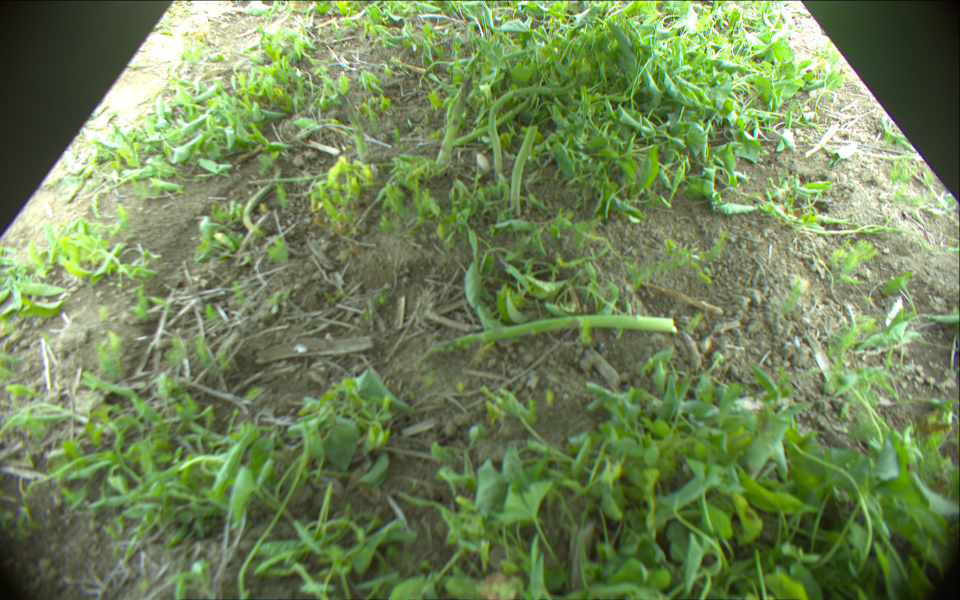aspa: (444, 314, 674, 350), (486, 84, 571, 179), (250, 160, 420, 184), (455, 97, 529, 147), (438, 72, 470, 167), (334, 90, 373, 163), (514, 124, 536, 219), (243, 188, 273, 237)
